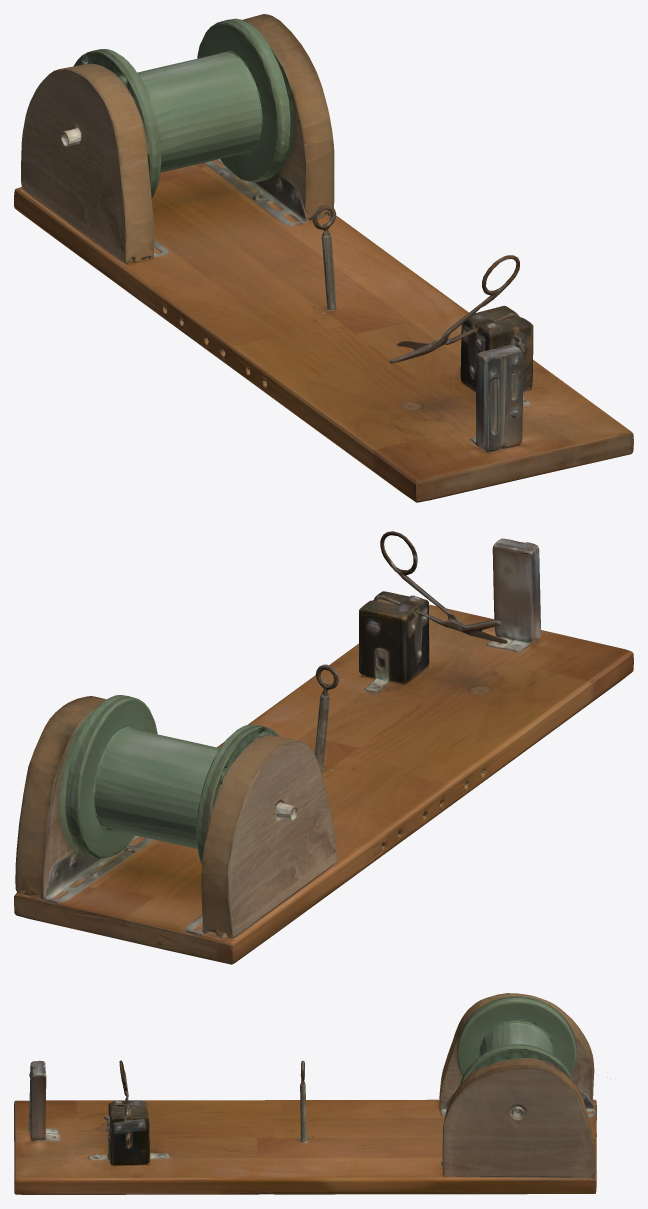
File: 5AB39DBC-F411-F040-A08C-394ED4A58582_2k.glb
3 views of the same model, one above another, from view 1: azimuth 30°, elevation 25°; view 2: azimuth 150°, elevation 25°; view 3: azimuth 270°, elevation 25° (orthographic). The views are drawn at different scales.
Parts seen in each view (by area): view 1: Drahtschneidemaschine_14k_2k; view 2: Drahtschneidemaschine_14k_2k; view 3: Drahtschneidemaschine_14k_2k.
Part boxes in pixels (<box>): Drahtschneidemaschine_14k_2k: <box>14,14,633,502</box>; Drahtschneidemaschine_14k_2k: <box>14,531,633,964</box>; Drahtschneidemaschine_14k_2k: <box>14,993,611,1194</box>.
Bounding box in the file's own units: 0.2507 × 0.2017 × 0.8243.
1 material, 1 textured.
